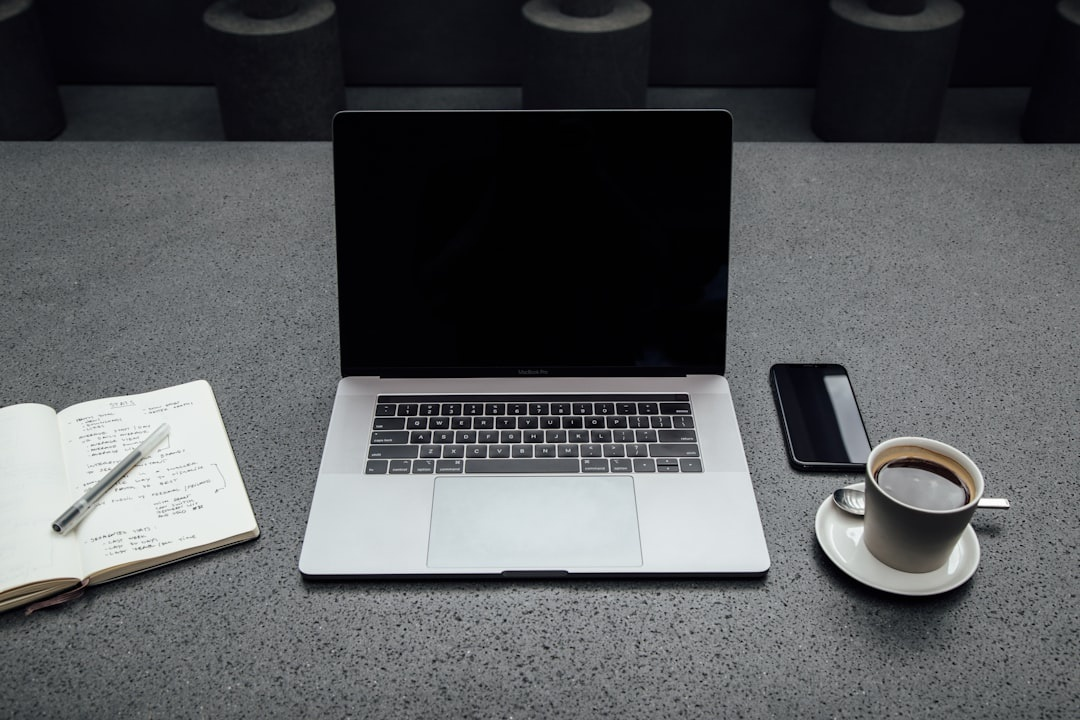laptop: (293, 82, 794, 608)
